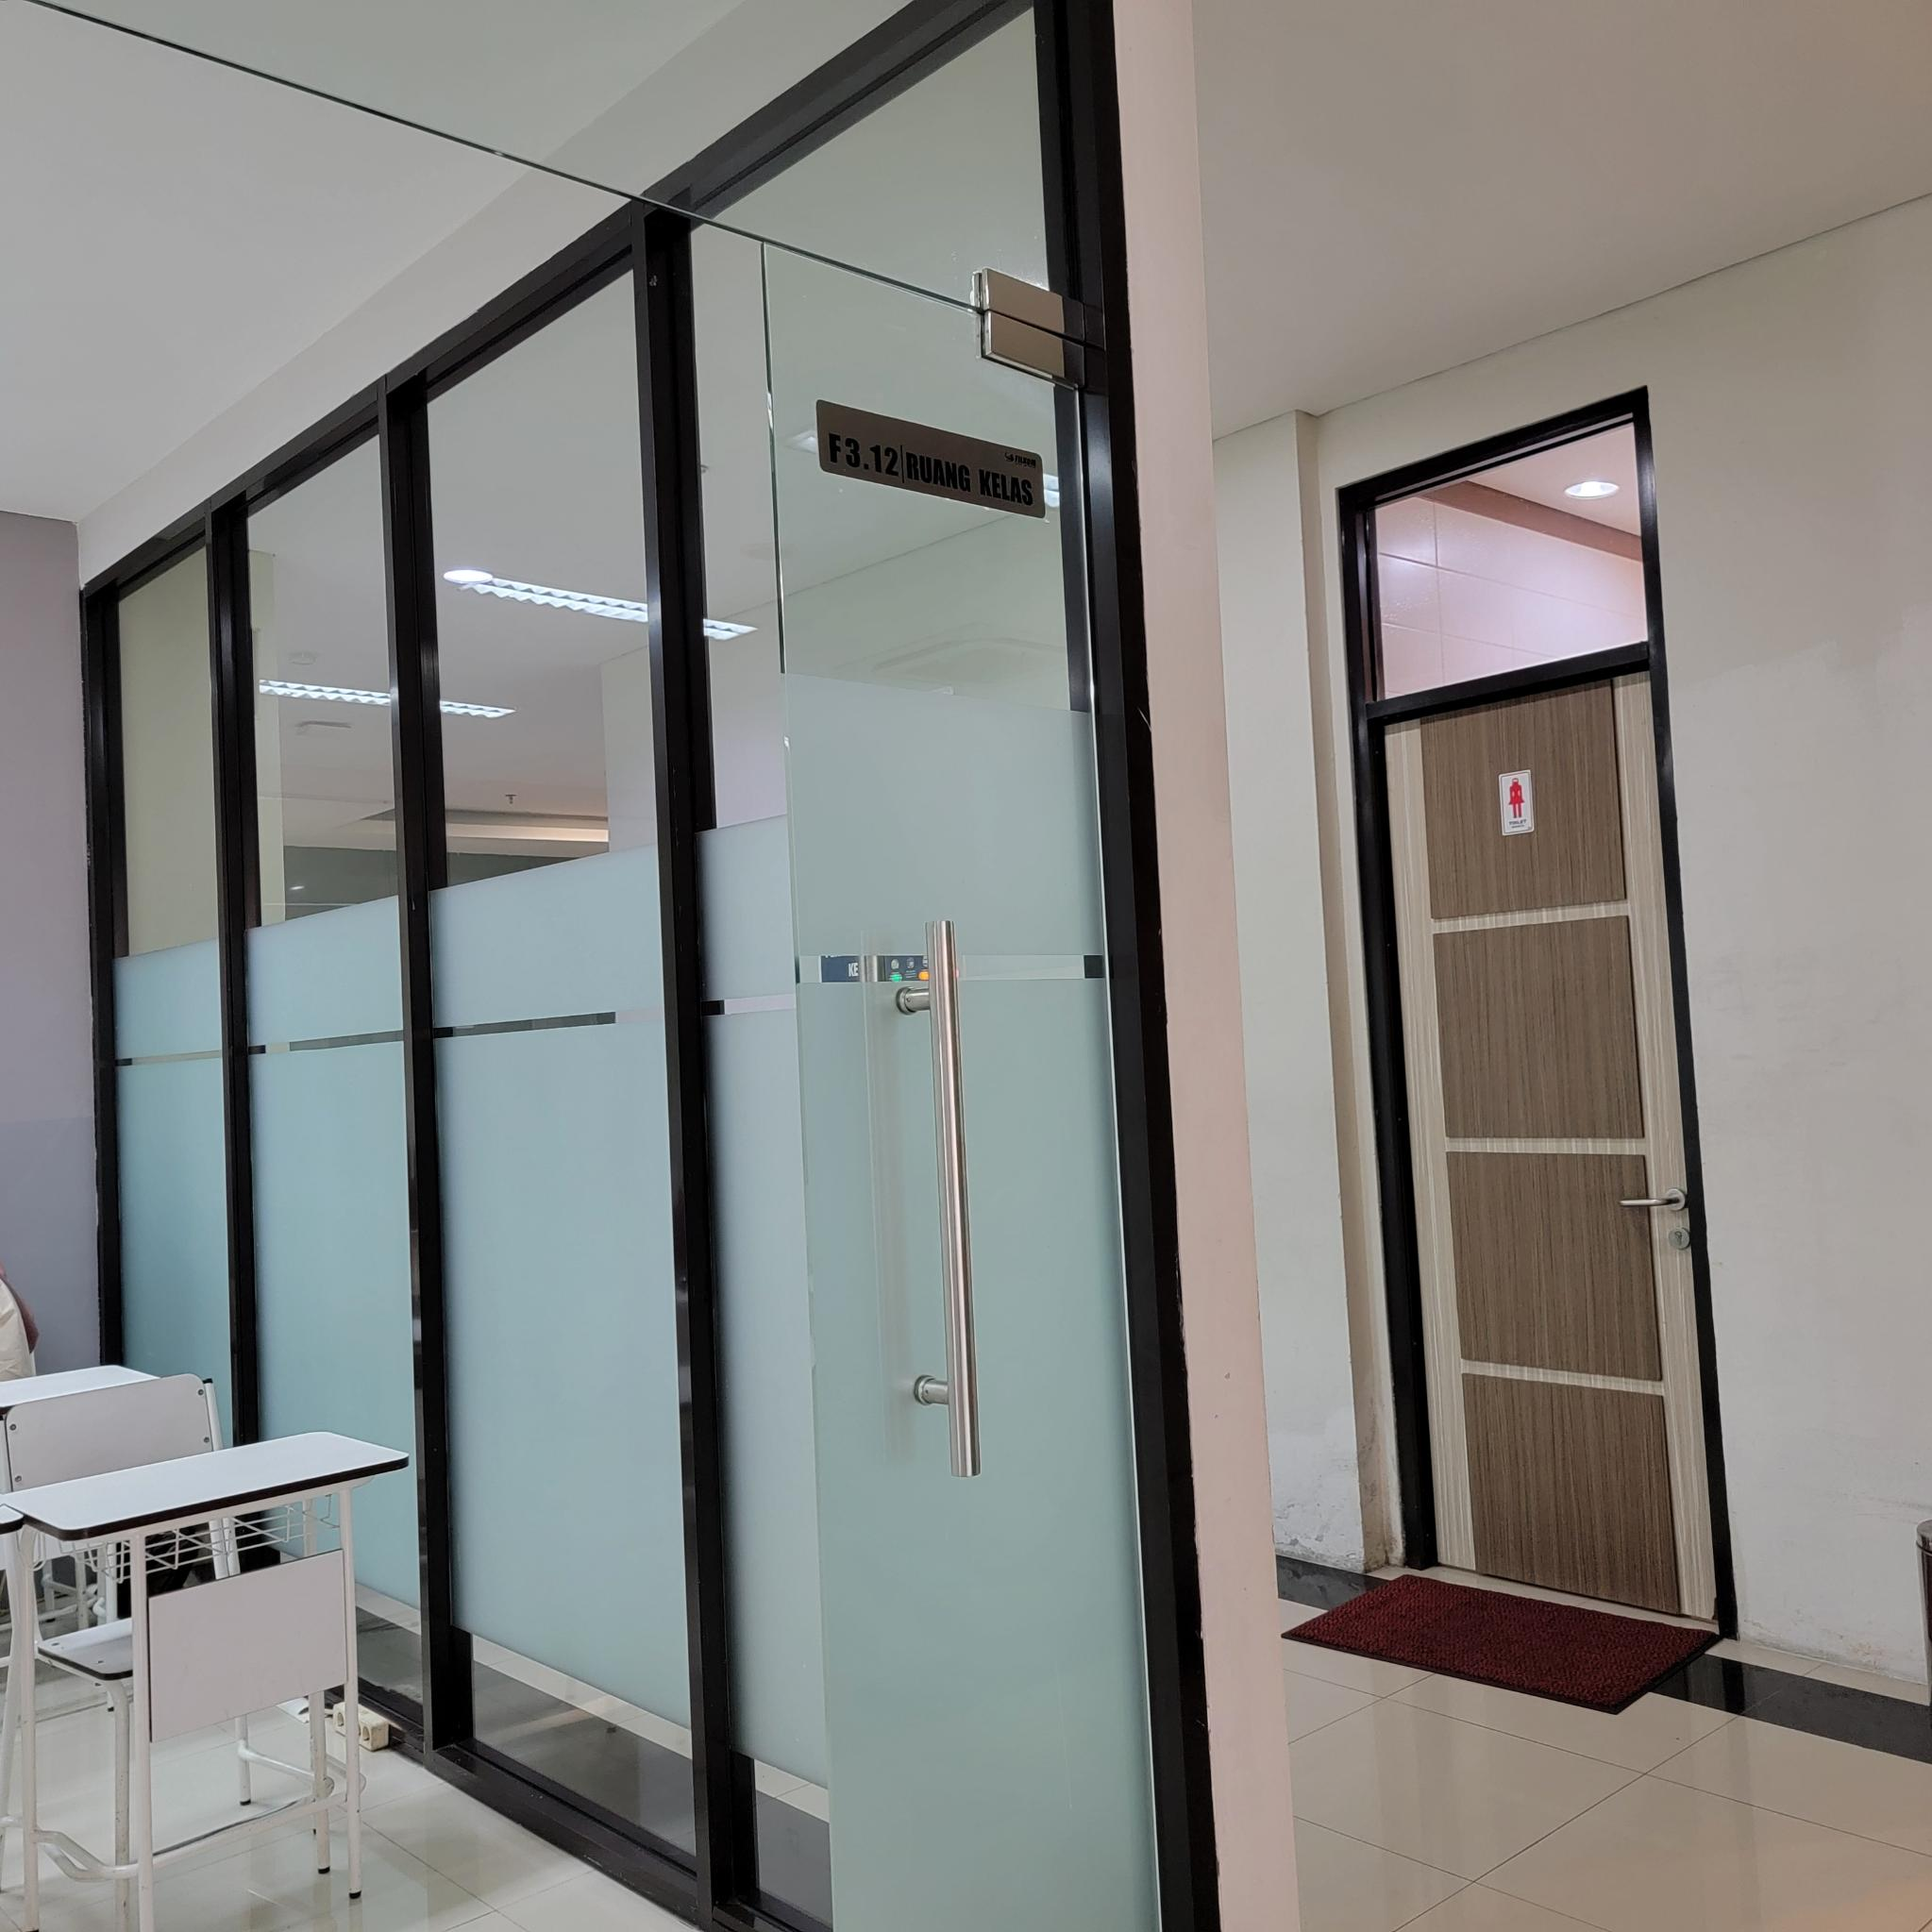plate: (816, 398, 1046, 520)
